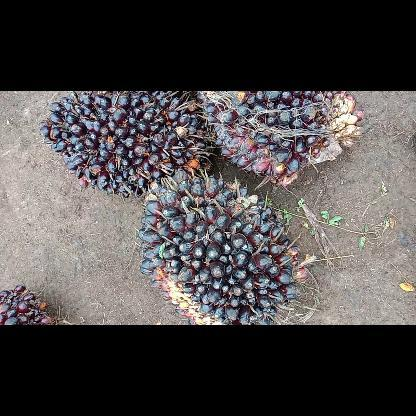TBS mentah: (134, 166, 312, 324), (37, 91, 218, 197), (195, 90, 365, 188)
